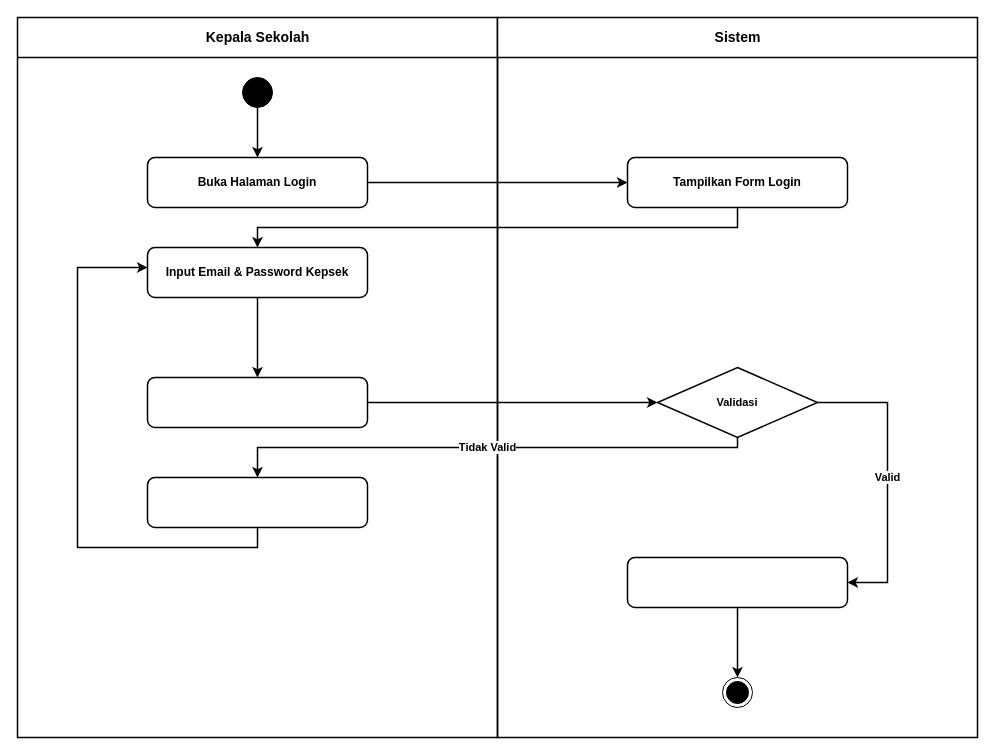
The diagram is 996 pixels wide and 756 high, and some of its shapes have lost their labels. The shapes that lost their labels are listed below. From the top down, each one's centre as x and y in pixels, then its label:
point (257, 402): Klik Login
point (257, 502): Tampil Error Login
point (737, 582): Tampilkan Dashboard
